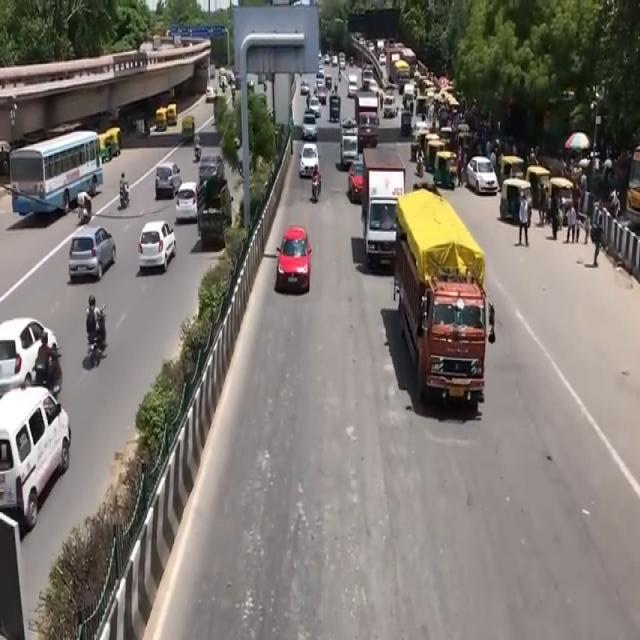BUS: (11, 129, 106, 222)
TRUCK: (397, 193, 490, 419), (361, 153, 405, 275)
